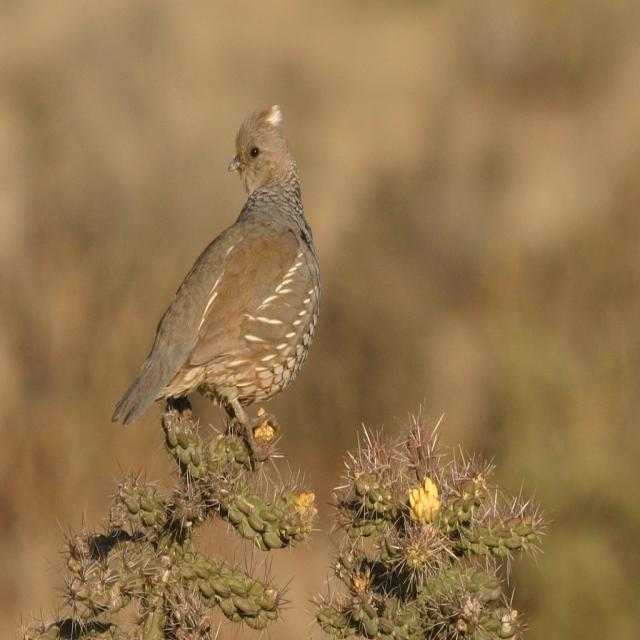bird: (110, 89, 323, 472)
